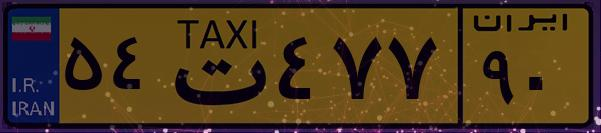0: (525, 38, 570, 115)
4: (270, 28, 330, 110), (110, 28, 158, 98)
5: (57, 26, 110, 100)
7: (385, 28, 445, 110), (330, 28, 385, 110)
9: (475, 38, 525, 113)
ت: (158, 12, 270, 120)
